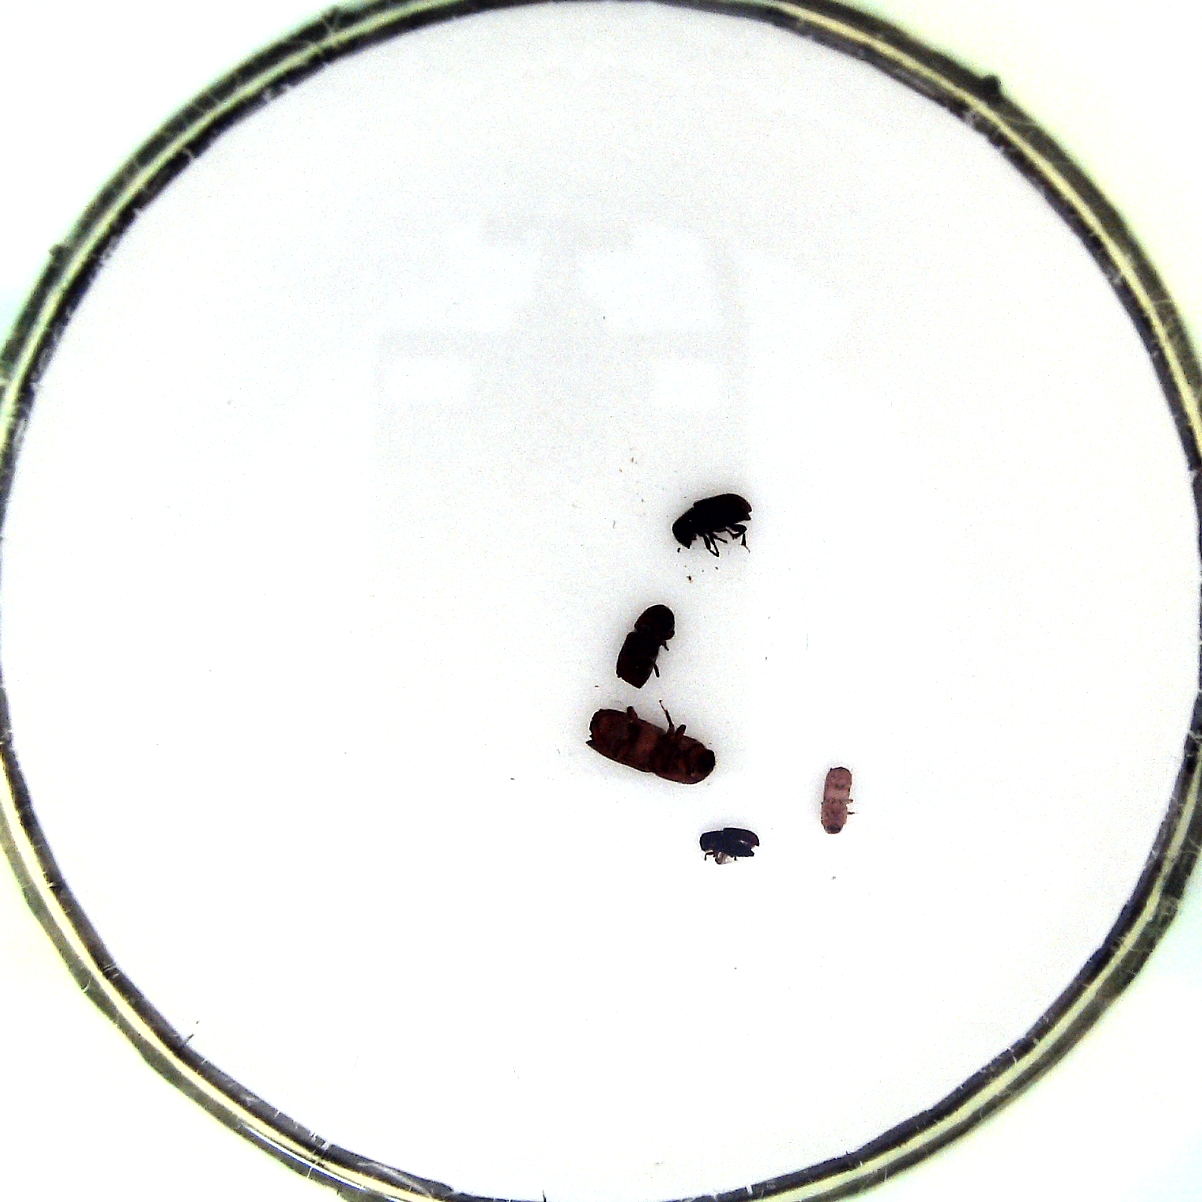Leconte: (579, 700, 722, 787)
Linnaeus: (614, 604, 682, 689)
acuminatus: (817, 764, 861, 840)
armandi: (664, 492, 760, 562)
coleoptera: (699, 826, 766, 864)
